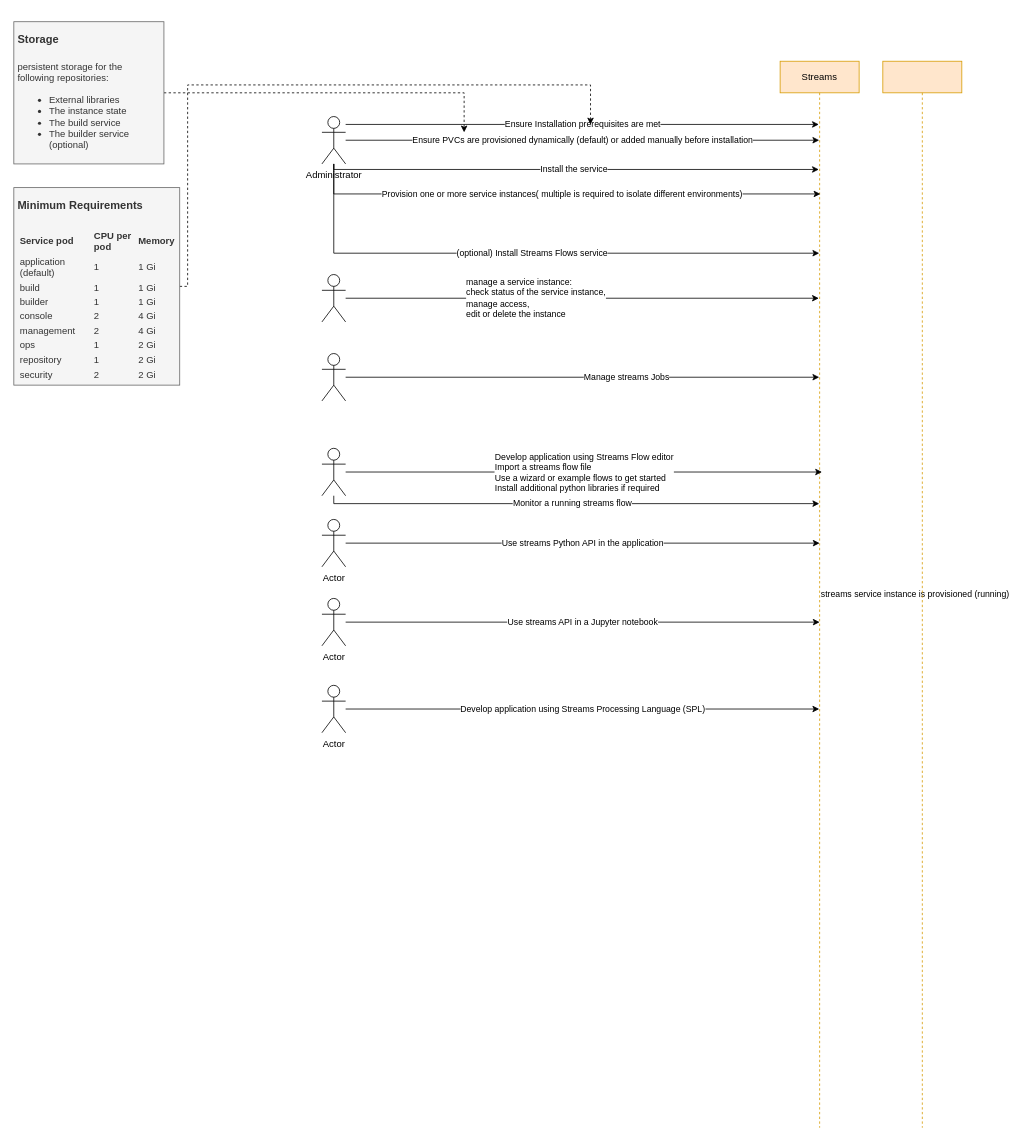
This 1022x1142 diagram has some shape labels left out. The shapes that lost their labels are listed below. From the top down, each one's box as (x1, y1, x2, y2) in pixels, then its label:
(321, 274, 346, 322): Service instance creator/Administrator
(321, 353, 346, 401): Service instance creator/Administrator/ user who created the Job
(321, 448, 346, 496): Instance user
(882, 60, 962, 1128): Apache Kafka
